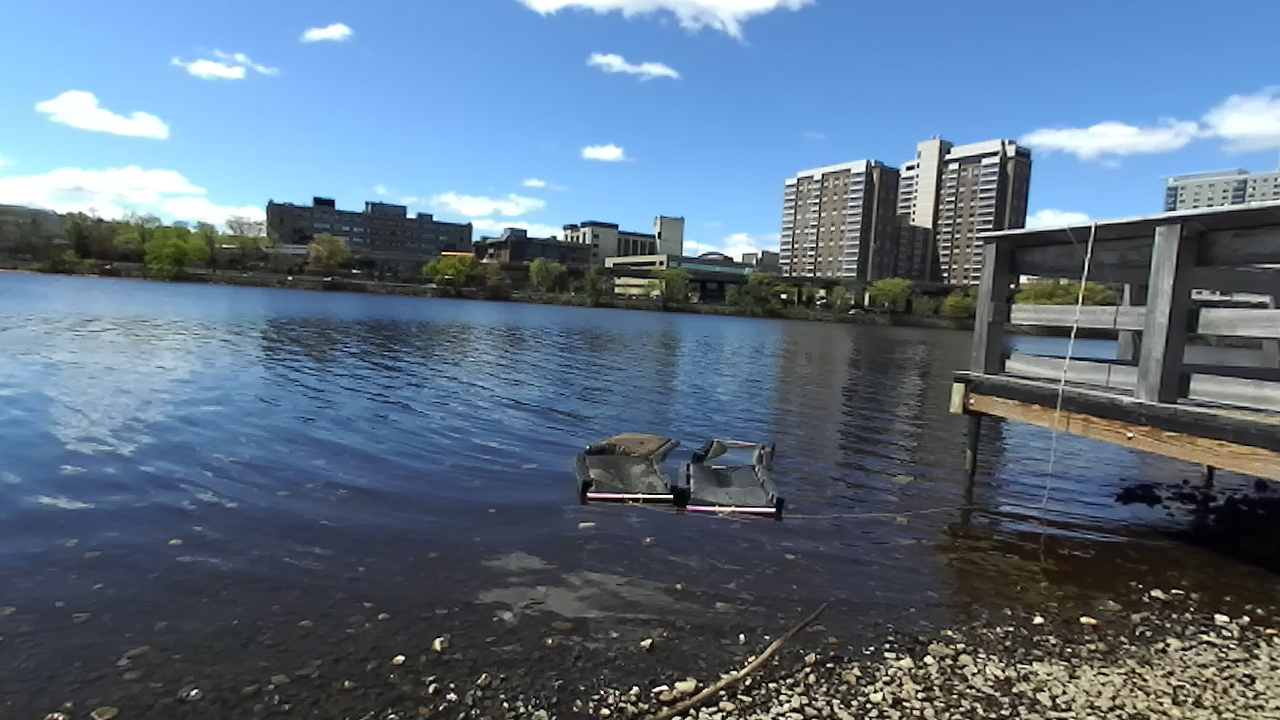bag: (676, 462, 785, 517), (572, 453, 673, 505), (692, 437, 774, 463), (587, 433, 679, 456)
